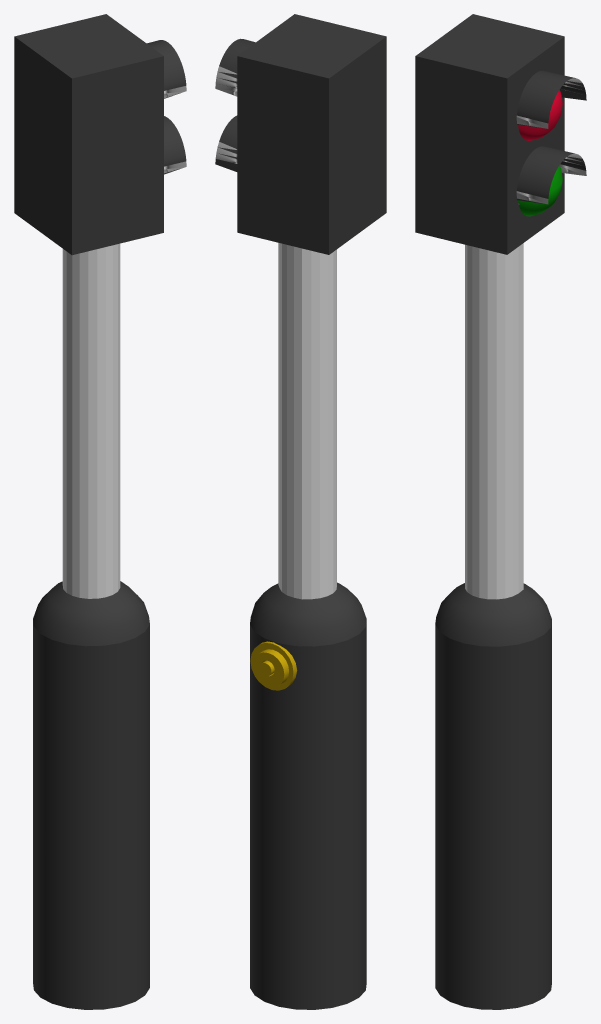
Rendered from Stoplicht voetganger.fbx.
3 renders of one model, left to right at view 1: azimuth 30°, elevation 25°; view 2: azimuth 150°, elevation 25°; view 3: azimuth 330°, elevation 25°, orthographic.
Parts seen in each view (by area): view 1: pCylinder8; view 2: pCylinder8; view 3: pCylinder8.
Boxes of the visible parts, bbox=[...] form: pCylinder8: bbox=[14, 14, 186, 1009]; pCylinder8: bbox=[215, 14, 386, 1009]; pCylinder8: bbox=[415, 14, 586, 1009].
Bounding box in the file's own units: 3.67 × 26.05 × 3.36.
